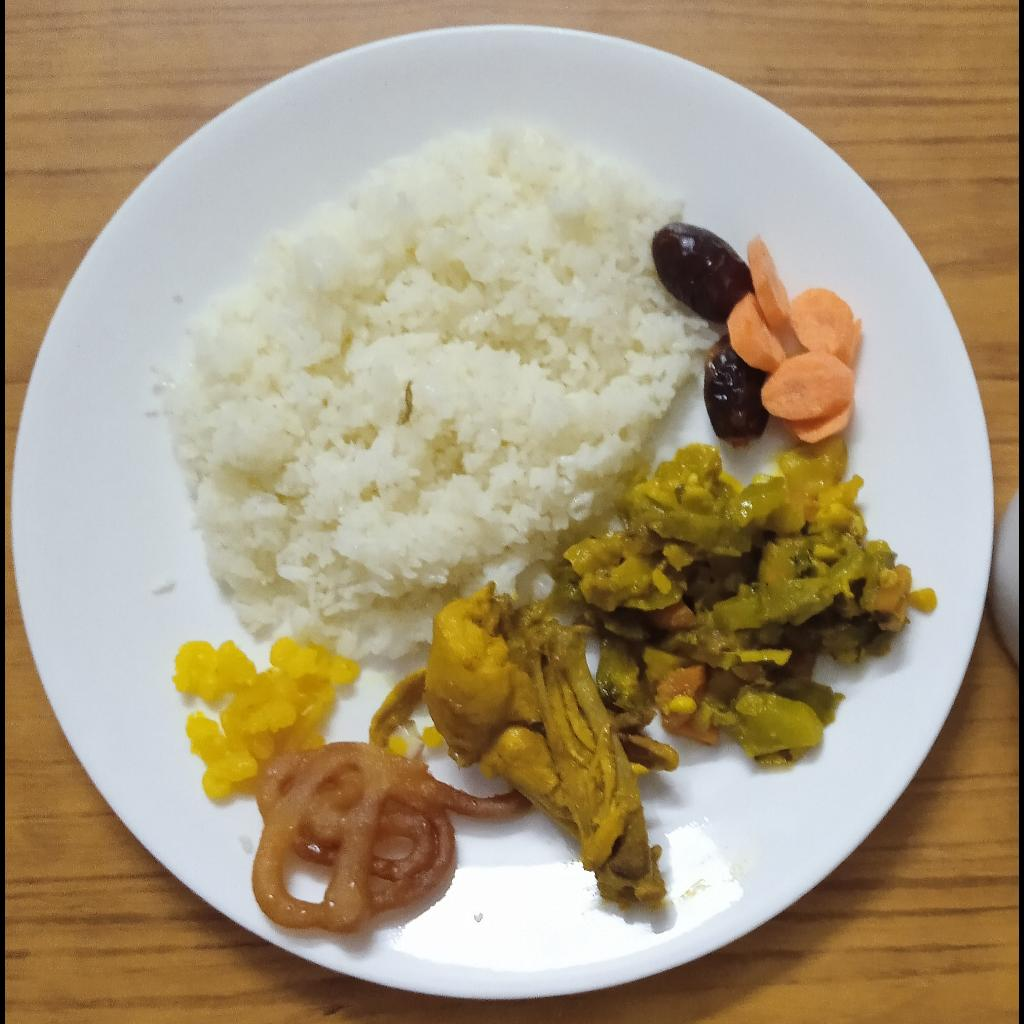burinda: (175, 636, 359, 804)
carrot: (729, 235, 864, 443)
chicken: (367, 591, 679, 909)
dates: (652, 222, 755, 324), (703, 334, 770, 450)
jilapi: (253, 740, 531, 936)
rice: (160, 120, 715, 667)
vegetable: (565, 433, 937, 767)
